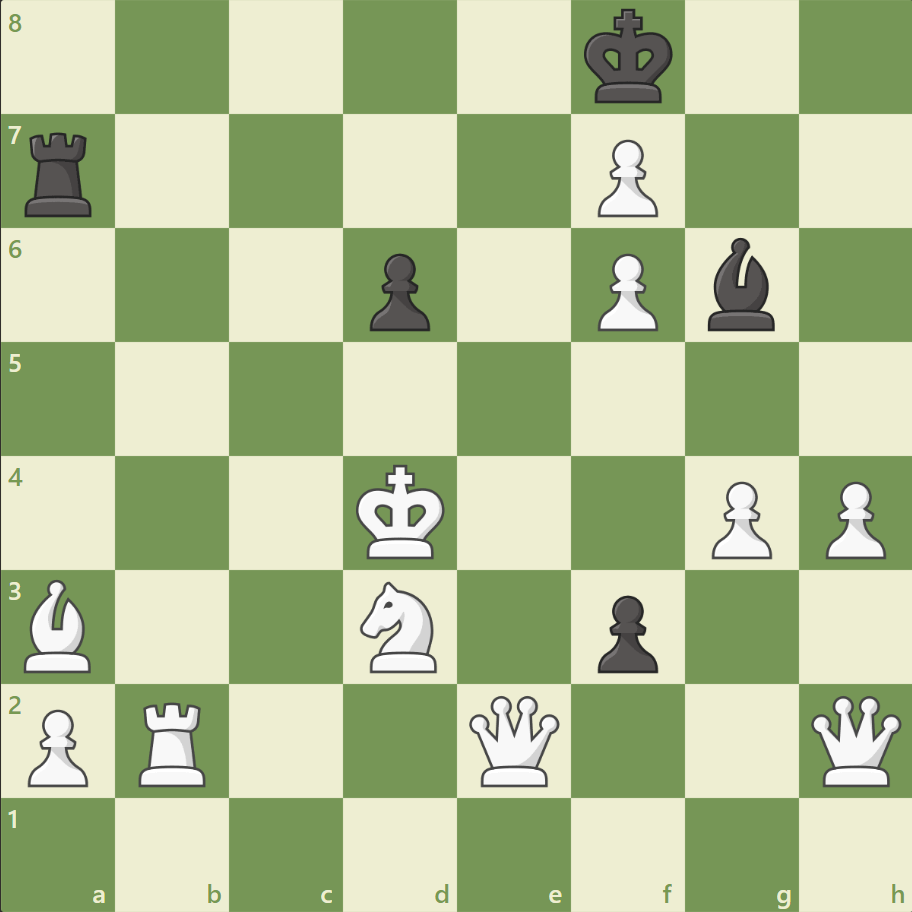B: (17, 574, 101, 676)
K: (351, 458, 451, 566)
N: (351, 575, 449, 677)
P: (701, 473, 776, 564), (20, 700, 95, 791), (588, 132, 662, 223), (588, 246, 662, 337), (815, 473, 889, 564)
Q: (464, 690, 563, 789), (805, 690, 904, 789)
R: (133, 693, 215, 790)
b: (698, 233, 782, 336)
k: (579, 4, 679, 112)
p: (361, 246, 435, 337), (588, 586, 662, 677)
r: (19, 125, 102, 222)
